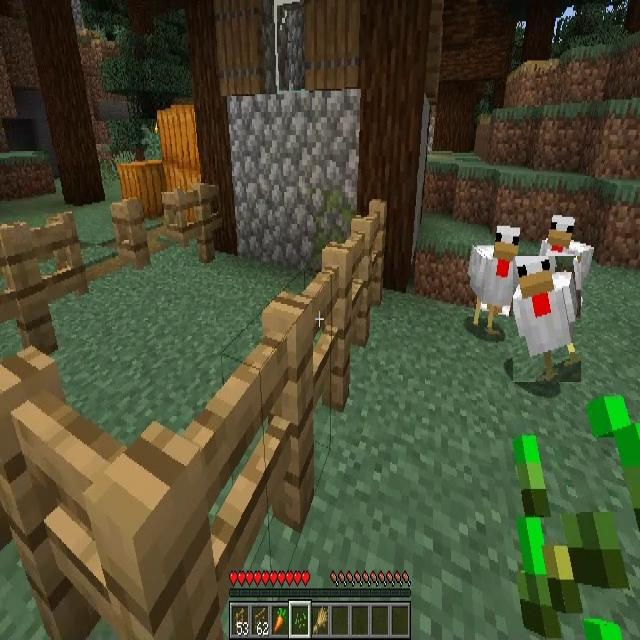duck: (513, 256, 581, 382), (470, 227, 521, 333), (538, 216, 588, 293)
